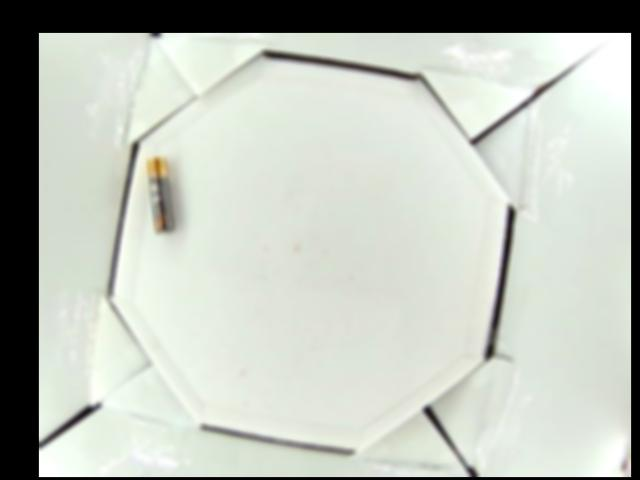Battery: (144, 156, 175, 235)
